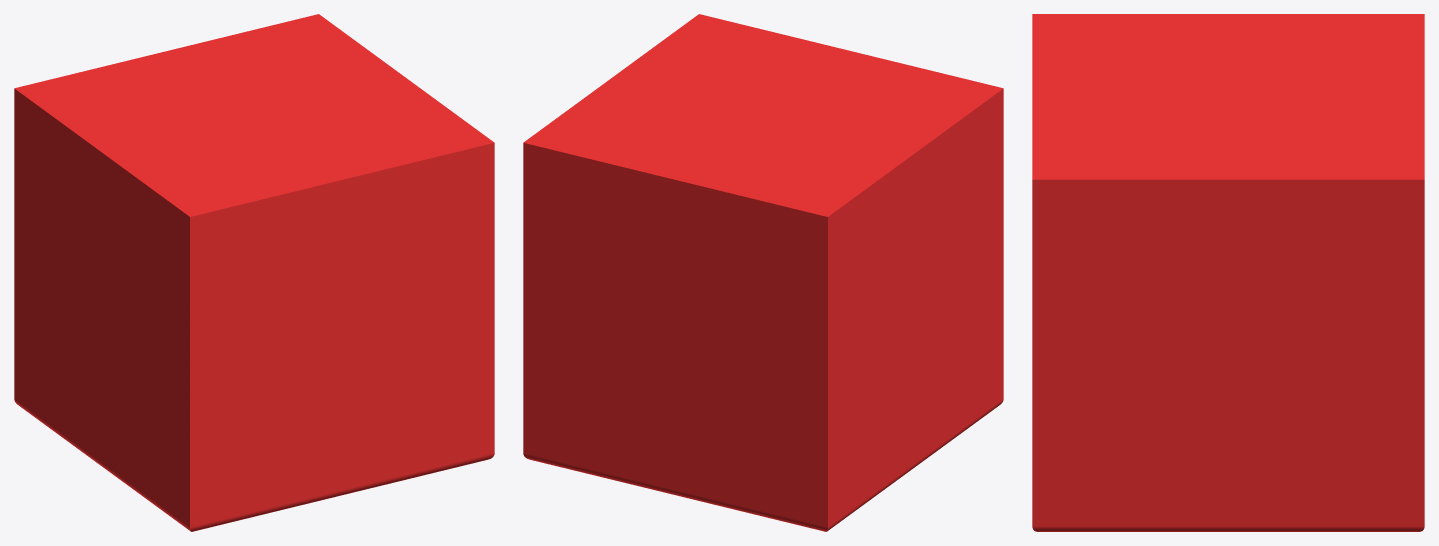
File: ImpossibleBox.glb
3 renders of one model, left to right at view 1: azimuth 30°, elevation 25°; view 2: azimuth 150°, elevation 25°; view 3: azimuth 270°, elevation 25°, orthographic. The views are drawn at different scales.
Visible parts, largest first — view 1: Cube; view 2: Cube; view 3: Cube.
Part boxes in pixels (left/top/right/bottom): Cube: left=14, top=14, right=494, bottom=531; Cube: left=523, top=14, right=1003, bottom=531; Cube: left=1032, top=14, right=1424, bottom=531.
Bounding box in the file's own units: 21.28 × 21.28 × 21.28.
